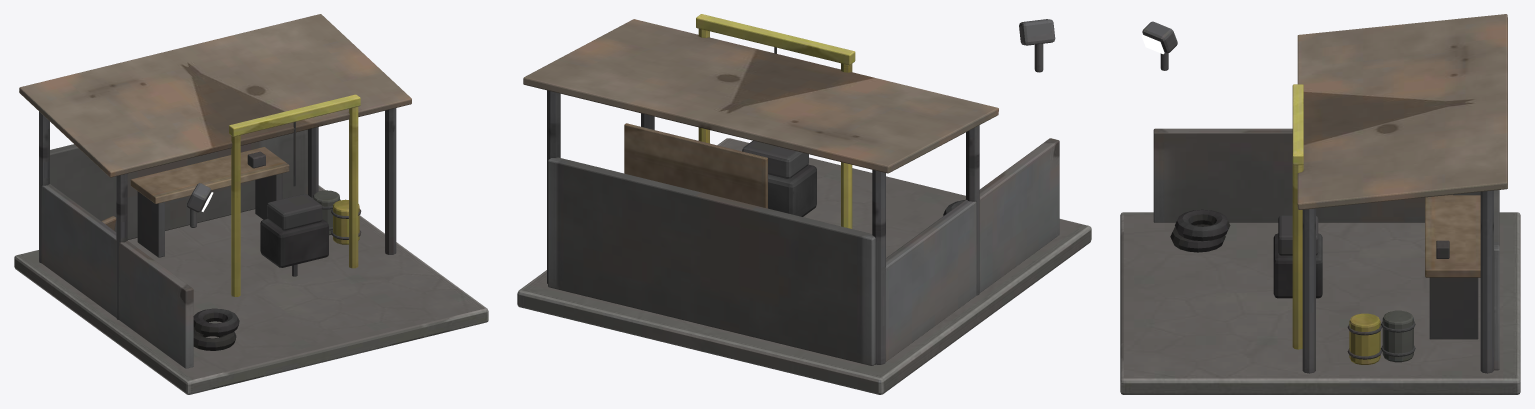
File: home-workshop.glb
3 views of the same model, side by side, from view 1: azimuth 30°, elevation 25°; view 2: azimuth 150°, elevation 25°; view 3: azimuth 270°, elevation 25° (orthographic). The views are drawn at different scales.
Parts seen in each view (by area): view 1: wh_workshop; view 2: wh_workshop; view 3: wh_workshop.
Part boxes in pixels (x1,y1,x2,y2): wh_workshop: (14, 14, 488, 394); wh_workshop: (517, 14, 1091, 394); wh_workshop: (1120, 14, 1520, 394).
Size of the model in its own units: 1.8 by 1.08 by 1.8.
Materials: 2 (1 with a texture image).
